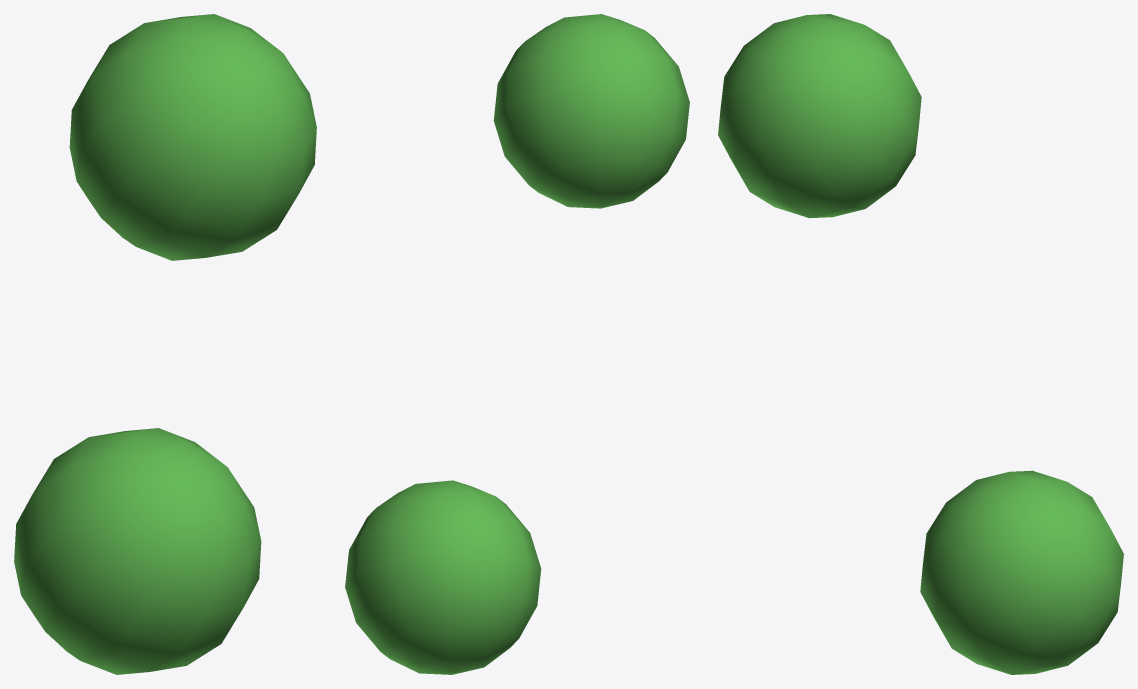
The model's file is linfatico-central-axillary-nodes-l.glb.
The picture shows the model from 3 angles, left to right: view 1: azimuth 30°, elevation 25°; view 2: azimuth 150°, elevation 25°; view 3: azimuth 270°, elevation 25°; orthographic projection. The views are drawn at different scales.
Parts seen in each view (by area): view 1: Central axillary nodes.l; view 2: Central axillary nodes.l; view 3: Central axillary nodes.l.
Part boxes in pixels (left/top/right/bottom): Central axillary nodes.l: left=14, top=14, right=316, bottom=674; Central axillary nodes.l: left=345, top=14, right=689, bottom=674; Central axillary nodes.l: left=718, top=14, right=1123, bottom=674.
Bounding box in the file's own units: 0.00339 × 0.00853 × 0.00509.
